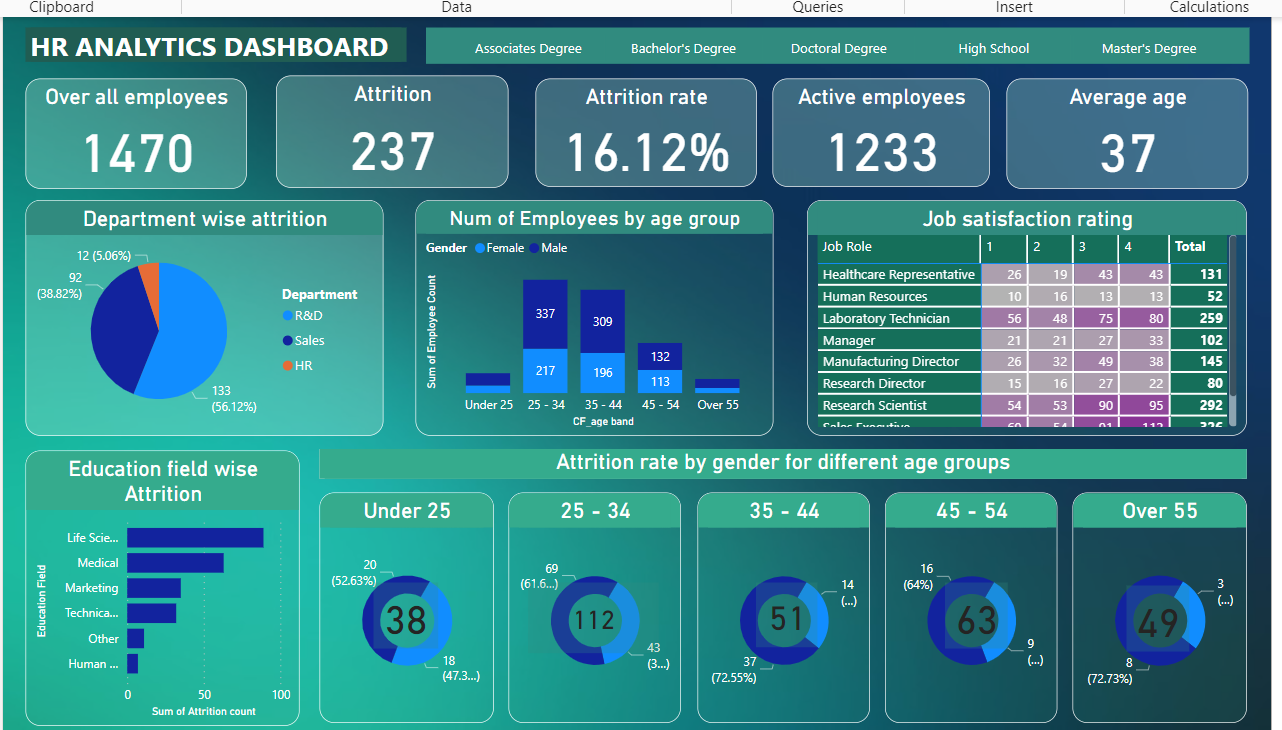

What the dashboard file says about the page in this screenshot:
{"tool":"powerbi","page":{"name":"Page 1","canvas":[1280,720],"ordinal":0},"visuals":[{"type":"card","title":"Over all employees","fields":{"Values":["Sum(HR data.Employee Count)"]},"box":[22.7,62.4,223.1,111.6],"z":0},{"type":"card","title":"Attrition ","fields":{"Values":["Sum(HR data.Attrition count)"]},"box":[276,58.6,234.4,113.4],"z":1000},{"type":"card","title":"Attrition rate","fields":{"Values":["HR data.Attrition rate"]},"box":[537,62.4,223.1,109.7],"z":2000},{"type":"card","title":"Active employees","fields":{"Values":["HR data.Current employees"]},"box":[777.1,62.4,219.3,109.7],"z":3000},{"type":"card","title":"Average age","fields":{"Values":["Avg(HR data.Age)"]},"box":[1013.4,62.4,243.9,111.6],"z":4000},{"type":"pieChart","title":"Department wise attrition","fields":{"Category":["HR data.Department"],"Y":["Sum(HR data.Attrition count)"]},"box":[22.7,185.3,361.1,238.2],"z":5000},{"type":"columnChart","title":"Num of Employees by age group","fields":{"Category":["HR data.CF_age band"],"Y":["Sum(HR data.Employee Count)"],"Series":["HR data.Gender"]},"box":[416,185.3,361.1,238.2],"z":6000},{"type":"pivotTable","title":"Job satisfaction rating","fields":{"Rows":["HR data.Job Role"],"Columns":["HR data.Job Satisfaction"],"Values":["Sum(HR data.Employee Count)"]},"box":[811.1,185.3,444.3,238.2],"z":7000},{"type":"barChart","title":"Education field wise Attrition","fields":{"Category":["HR data.Education Field"],"Y":["Sum(HR data.Attrition count)"]},"box":[22.3,437.1,276.6,278.1],"z":8000},{"type":"donutChart","title":"Under 25","fields":{"Category":["HR data.Gender"],"Y":["Sum(HR data.Attrition count)"],"Series":["HR data.CF_age band"]},"box":[319.5,480.2,175.8,232.6],"z":9000},{"type":"textbox","title":"Attrition rate by gender for different age groups","box":[319.5,436.8,935.9,30.3],"z":10000},{"type":"donutChart","title":"25 - 34","fields":{"Category":["HR data.Gender"],"Y":["Sum(HR data.Attrition count)"],"Series":["HR data.CF_age band"]},"box":[510.5,480.2,173.9,232.6],"z":11000},{"type":"donutChart","title":"35 - 44","fields":{"Category":["HR data.Gender"],"Y":["Sum(HR data.Attrition count)"],"Series":["HR data.CF_age band"]},"box":[701.4,480.2,173.9,232.6],"z":12000},{"type":"donutChart","title":"45 - 54","fields":{"Category":["HR data.Gender"],"Y":["Sum(HR data.Attrition count)"],"Series":["HR data.CF_age band"]},"box":[890.5,480.2,173.9,232.6],"z":13000},{"type":"donutChart","title":"Over 55","fields":{"Category":["HR data.Gender"],"Y":["Sum(HR data.Attrition count)"],"Series":["HR data.CF_age band"]},"box":[1079.6,480.2,175.8,232.6],"z":14000},{"type":"card","fields":{"Values":["Sum(HR data.Attrition count)"]},"box":[950.5,570.6,63.6,66.8],"z":15000},{"type":"card","fields":{"Values":["Sum(HR data.Attrition count)"]},"box":[759.7,570.6,62,65.2],"z":16000},{"type":"card","fields":{"Values":["Sum(HR data.Attrition count)"]},"box":[529.3,570.6,131.9,71.5],"z":17000},{"type":"card","fields":{"Values":["Sum(HR data.Attrition count)"]},"box":[373.5,570.6,65.2,66.8],"z":18000},{"type":"card","fields":{"Values":["Sum(HR data.Attrition count)"]},"box":[1134.8,573.8,63.6,66.8],"z":19000},{"type":"textbox","title":"HR ANALYTICS DASHBOARD","box":[22.3,11.1,384.6,35],"z":19001},{"type":"slicer","fields":{"Values":["HR data.Education"]},"box":[427.5,11.1,831.3,36.6],"z":19002}]}

Visuals, with their boxes in screenshot pixels (x1, y1, x2, y2):
"Over all employees" card: (3,67,232,182)
"Attrition " card: (263,63,503,179)
"Attrition rate" card: (530,67,758,180)
"Active employees" card: (776,67,1000,180)
"Average age" card: (1018,67,1267,182)
"Department wise attrition" pieChart: (3,193,373,437)
"Num of Employees by age group" columnChart: (406,193,776,437)
"Job satisfaction rating" pivotTable: (811,193,1266,437)
"Education field wise Attrition" barChart: (3,451,286,729)
"Under 25" donutChart: (307,495,487,729)
"Attrition rate by gender for different age groups" textbox: (307,451,1266,482)
"25 - 34" donutChart: (503,495,681,729)
"35 - 44" donutChart: (698,495,876,729)
"45 - 54" donutChart: (892,495,1070,729)
"Over 55" donutChart: (1086,495,1266,729)
card - Sum(HR data.Attrition count): (953,588,1018,656)
card - Sum(HR data.Attrition count): (758,588,821,654)
card - Sum(HR data.Attrition count): (522,588,657,661)
card - Sum(HR data.Attrition count): (362,588,429,656)
card - Sum(HR data.Attrition count): (1142,591,1207,659)
"HR ANALYTICS DASHBOARD" textbox: (3,15,397,51)
slicer - HR data.Education: (418,15,1269,52)
